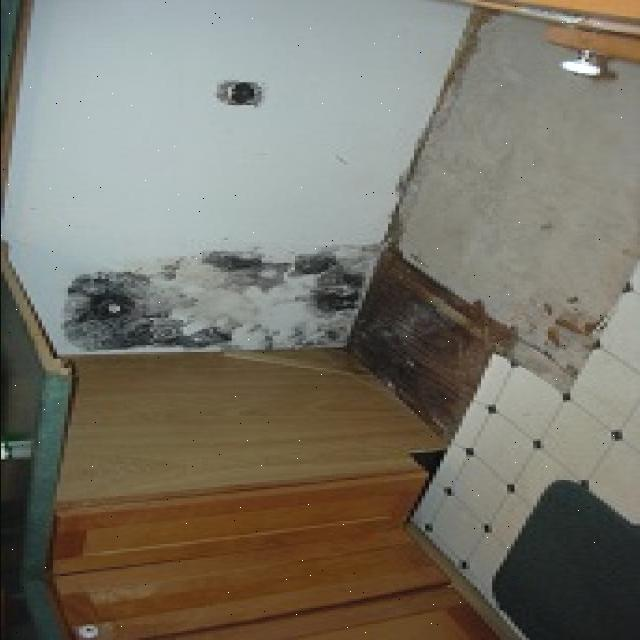dampness: (69, 242, 381, 358)
